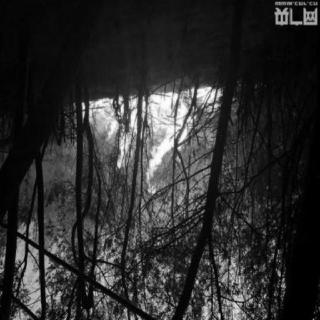Fire: (71, 72, 231, 199)
